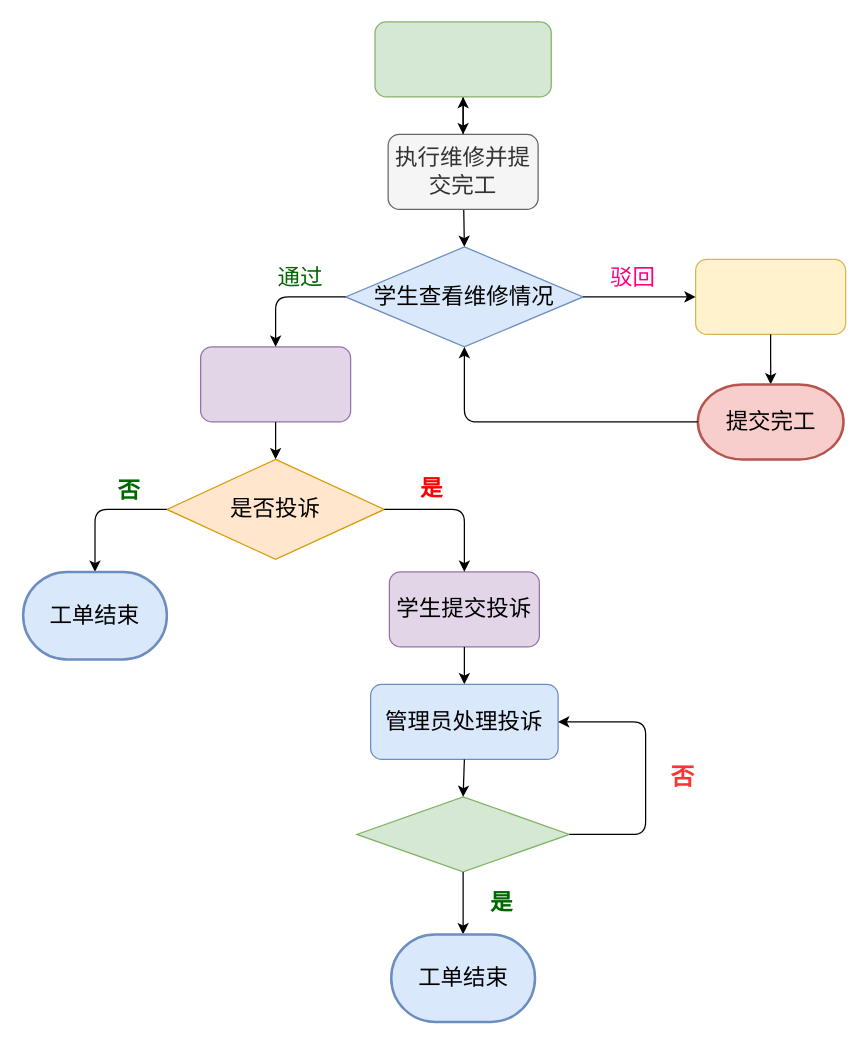
Image size: 868x1045. Some labels were removed from this diagram. Here are the shapes that lost their labels. From the top down, the box of each, then its label:
(374, 21, 551, 97): 维修人员接单
(694, 258, 846, 334): 维修人员返修
(199, 346, 351, 422): 学生提交评价
(356, 796, 569, 872): 是否处理完成
